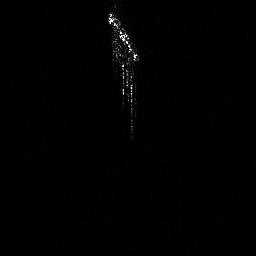ship: (102, 5, 144, 139)
